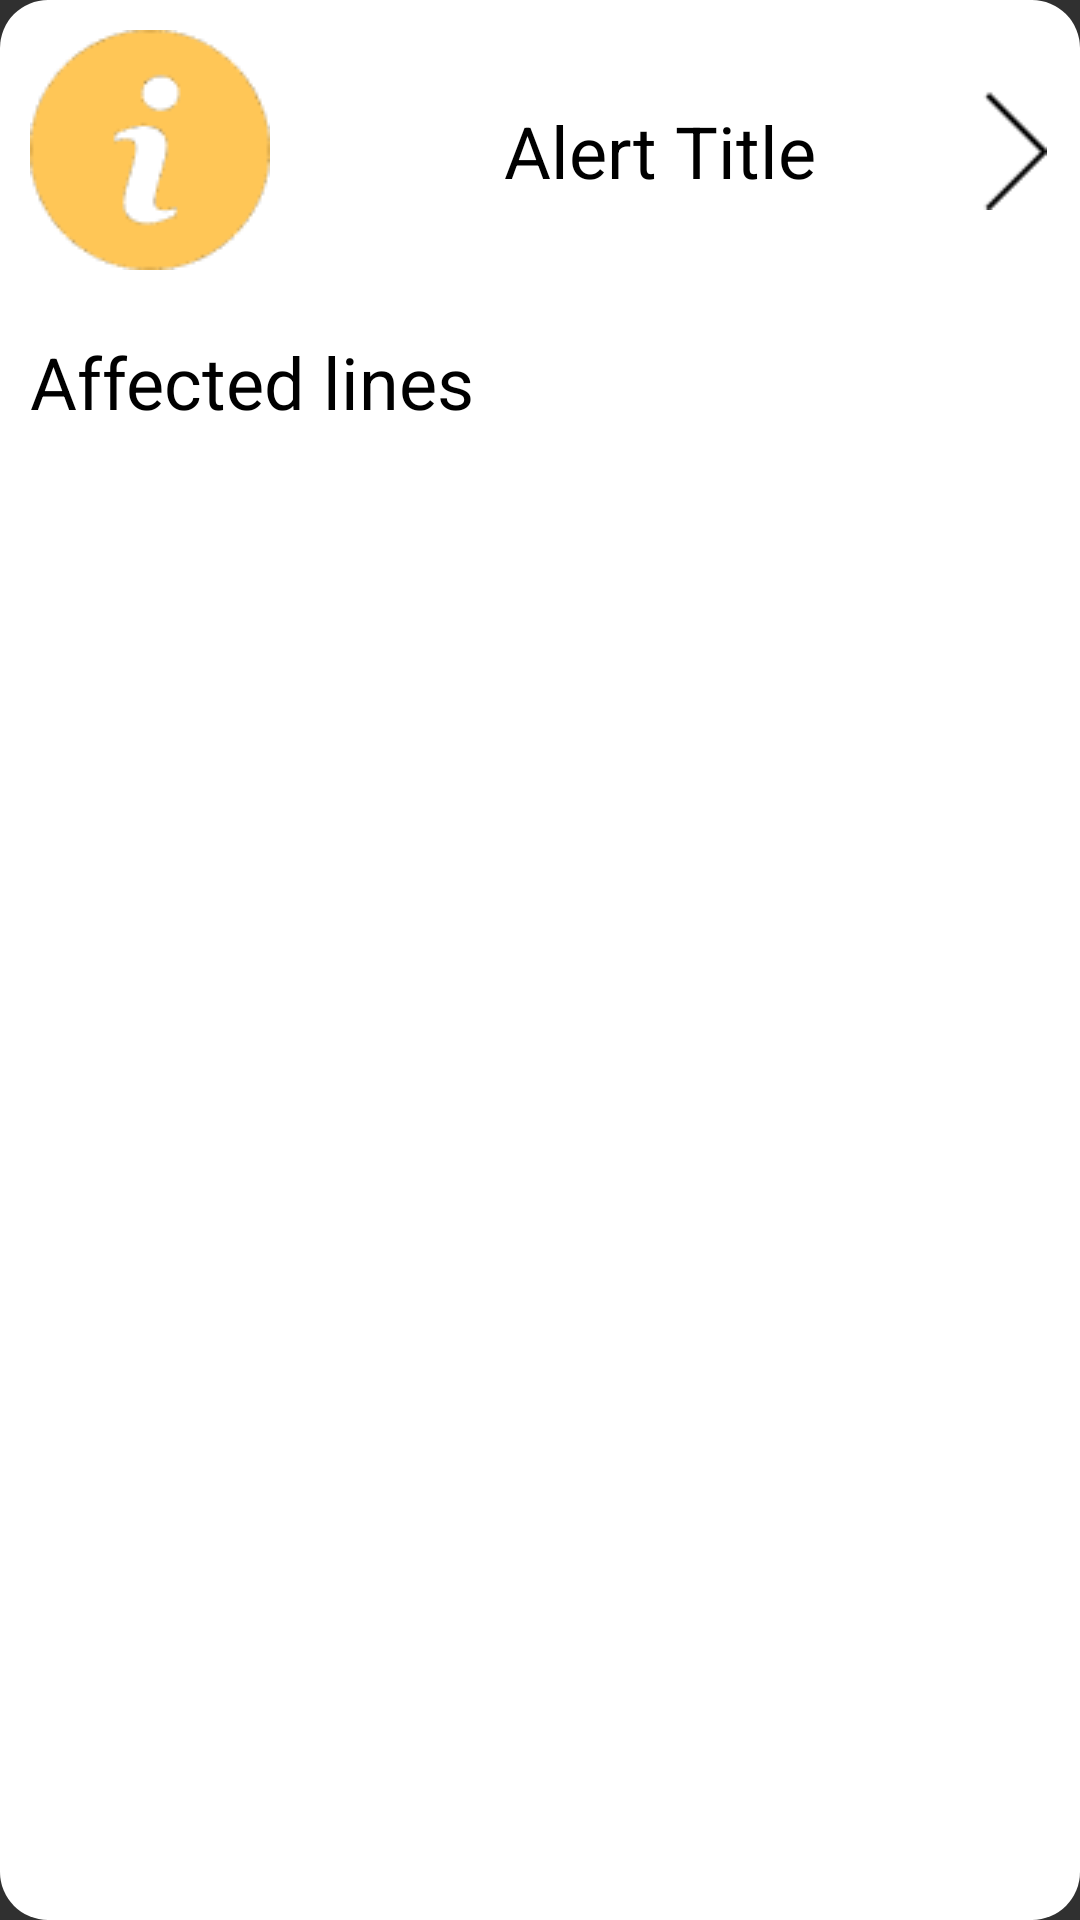

Point at icon controls on the screen. Image size 1080 x 1920, points as (x=x, y=y).
info alert: (x=150, y=150)
